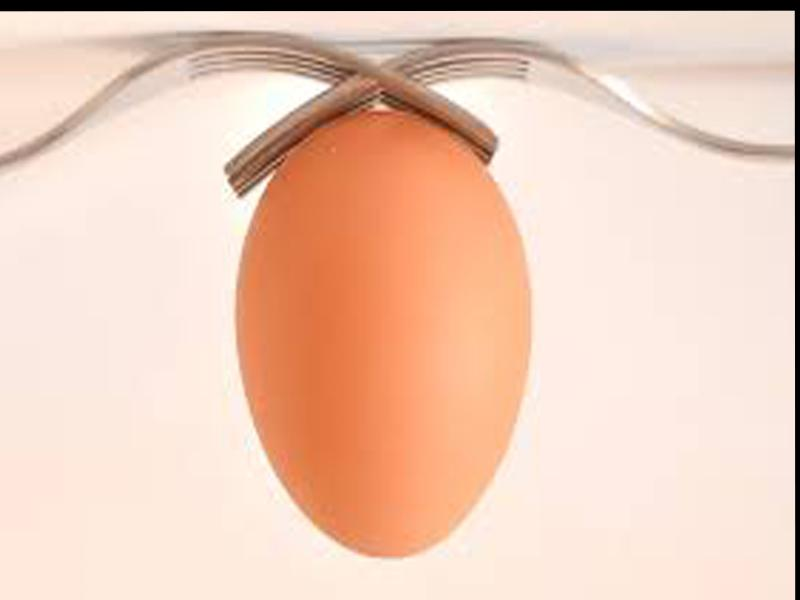Eggs: (236, 110, 531, 556)
